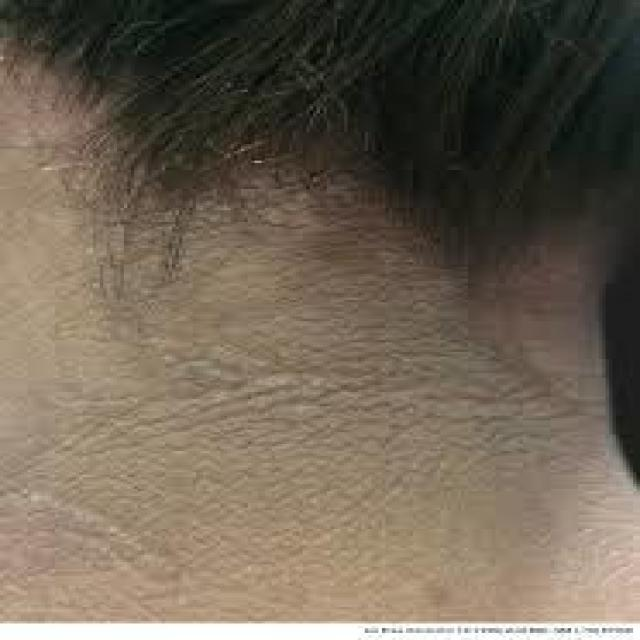Acanthosis Nigricans: (0, 282, 608, 594)
